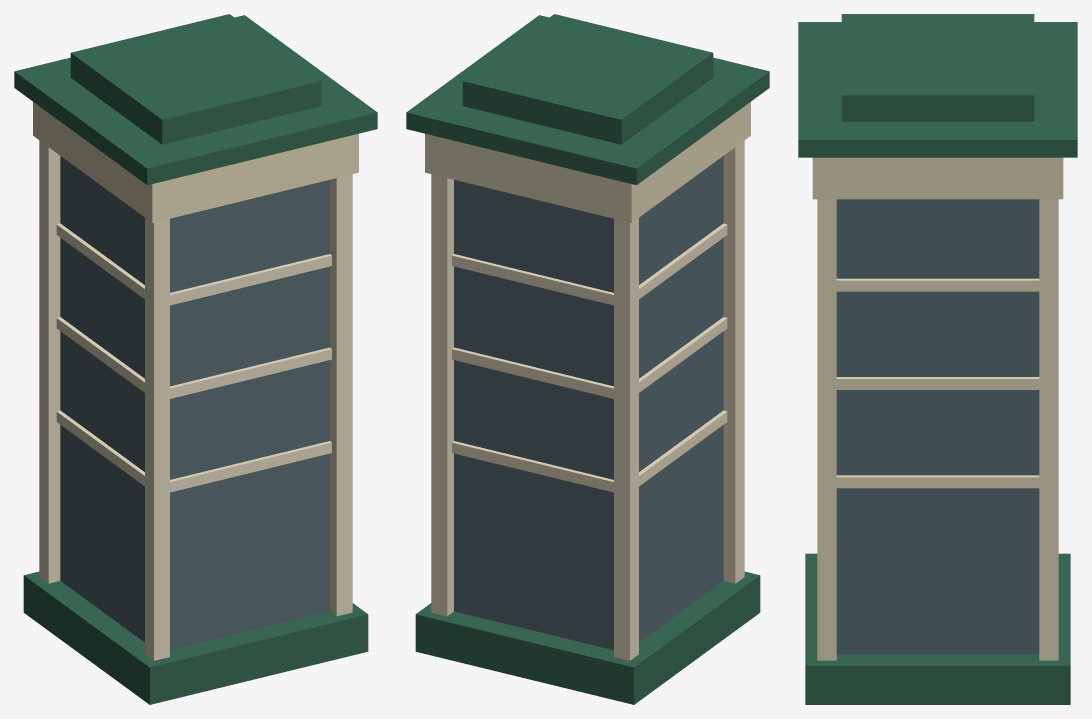
Rendered from life_phonebox.glb.
3 renders of one model, left to right at view 1: azimuth 30°, elevation 25°; view 2: azimuth 150°, elevation 25°; view 3: azimuth 270°, elevation 25°, orthographic. The views are drawn at different scales.
Visible parts, largest first — view 1: life_phonebox; view 2: life_phonebox; view 3: life_phonebox.
Part boxes in pixels (x1,y1,x2,y2): life_phonebox: [14, 14, 377, 704]; life_phonebox: [406, 14, 769, 704]; life_phonebox: [798, 14, 1077, 704].
Bounding box in the file's own units: 1.16 × 2.72 × 1.16.
